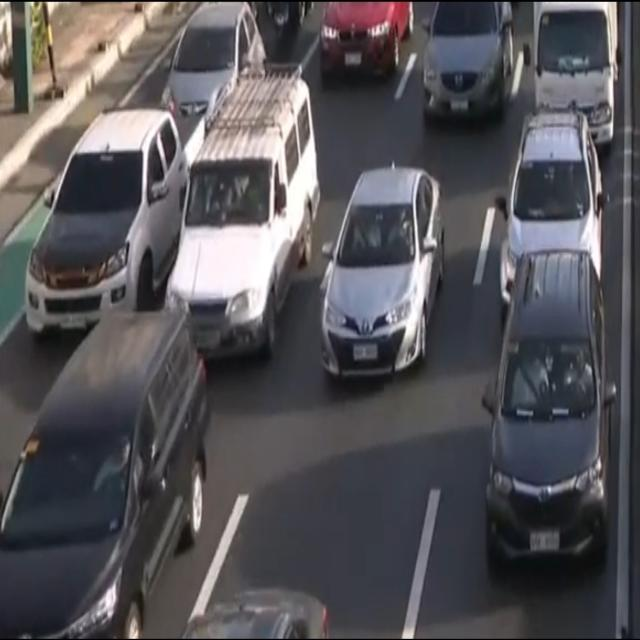Pick-up: (166, 76, 317, 363), (534, 0, 619, 147)
SUV: (0, 309, 210, 640), (487, 246, 609, 572), (25, 110, 187, 333)
Sedan: (322, 166, 448, 378), (498, 122, 604, 308), (160, 3, 267, 135), (425, 0, 513, 124), (318, 0, 414, 77)
